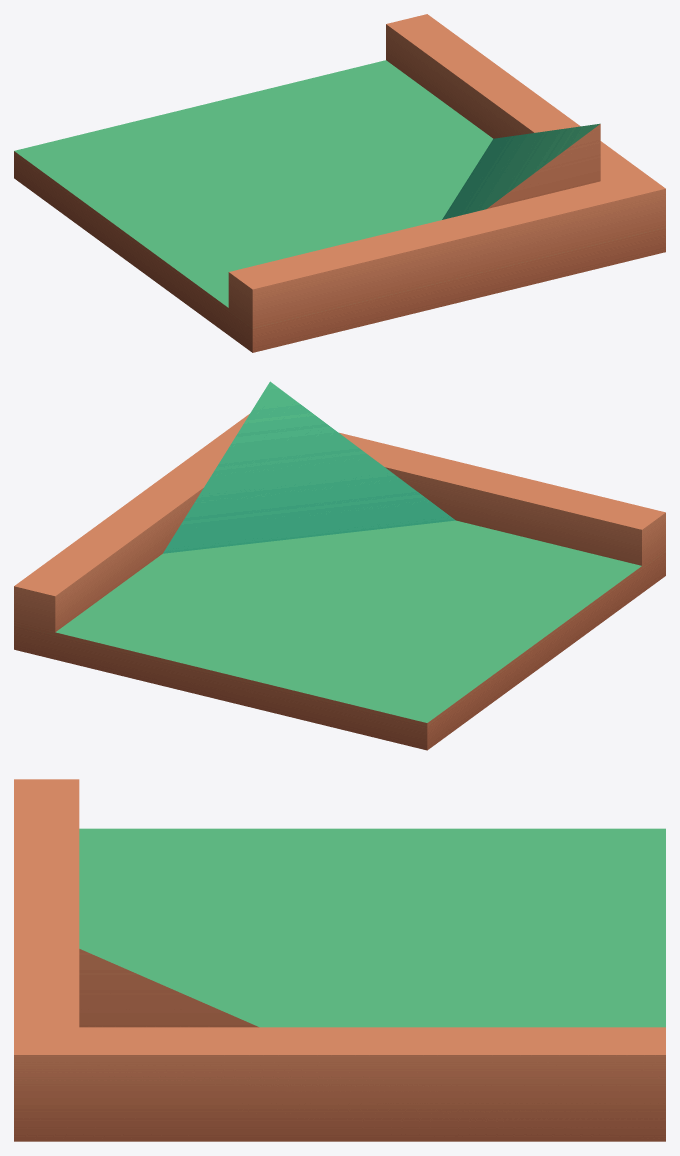
Rendered from hill-corner.glb.
3 views of the same model, one above another, from view 1: azimuth 30°, elevation 25°; view 2: azimuth 150°, elevation 25°; view 3: azimuth 270°, elevation 25° (orthographic). The views are drawn at different scales.
Visible parts, largest first — view 1: hill-corner; view 2: hill-corner; view 3: hill-corner.
Boxes of the visible parts, x1=… form: hill-corner: x1=14, y1=14, x2=665, y2=352; hill-corner: x1=14, y1=381, x2=665, y2=750; hill-corner: x1=14, y1=779, x2=665, y2=1141.
Bounding box in the file's own units: 0.9999 × 0.28 × 0.9999.
1 material, 1 textured.
